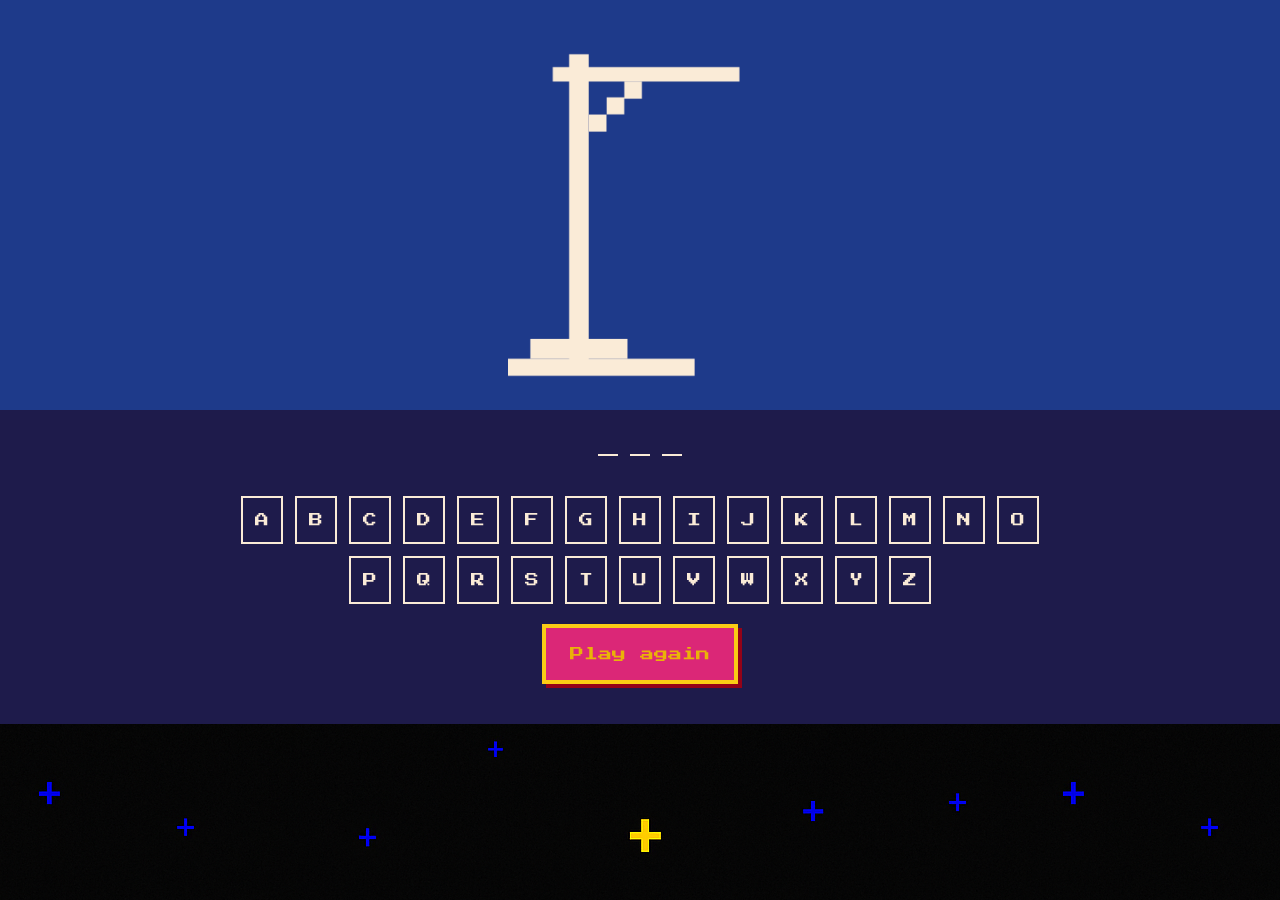
Test: Hangman › shows winning animation when all letters are found
Click the button "A".
click(262, 520)  # box x1=241 y1=496 x2=283 y2=544
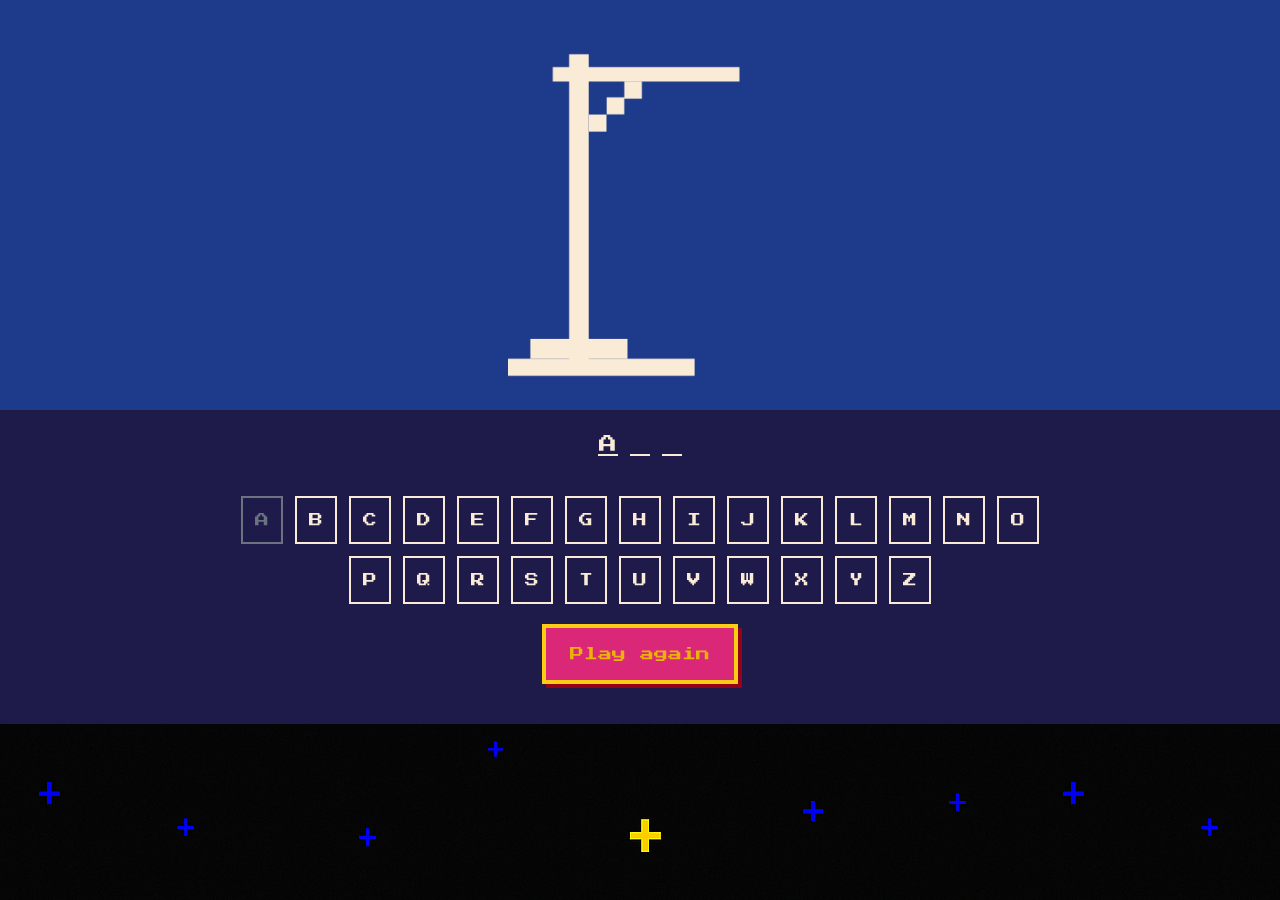
Click the button "B".
click(316, 520)  # box x1=295 y1=496 x2=337 y2=544
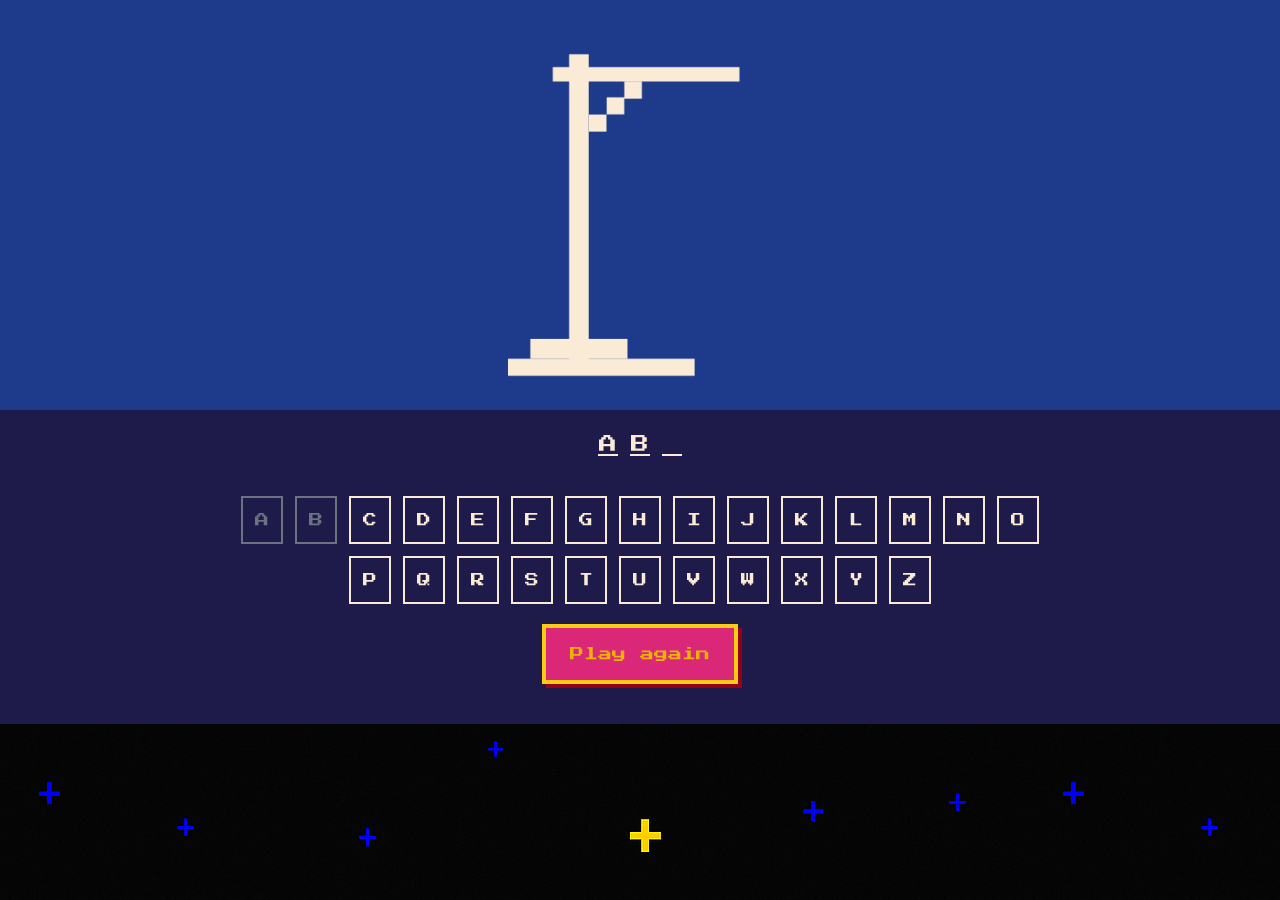
Click the button "C".
click(370, 520)  # box x1=349 y1=496 x2=391 y2=544
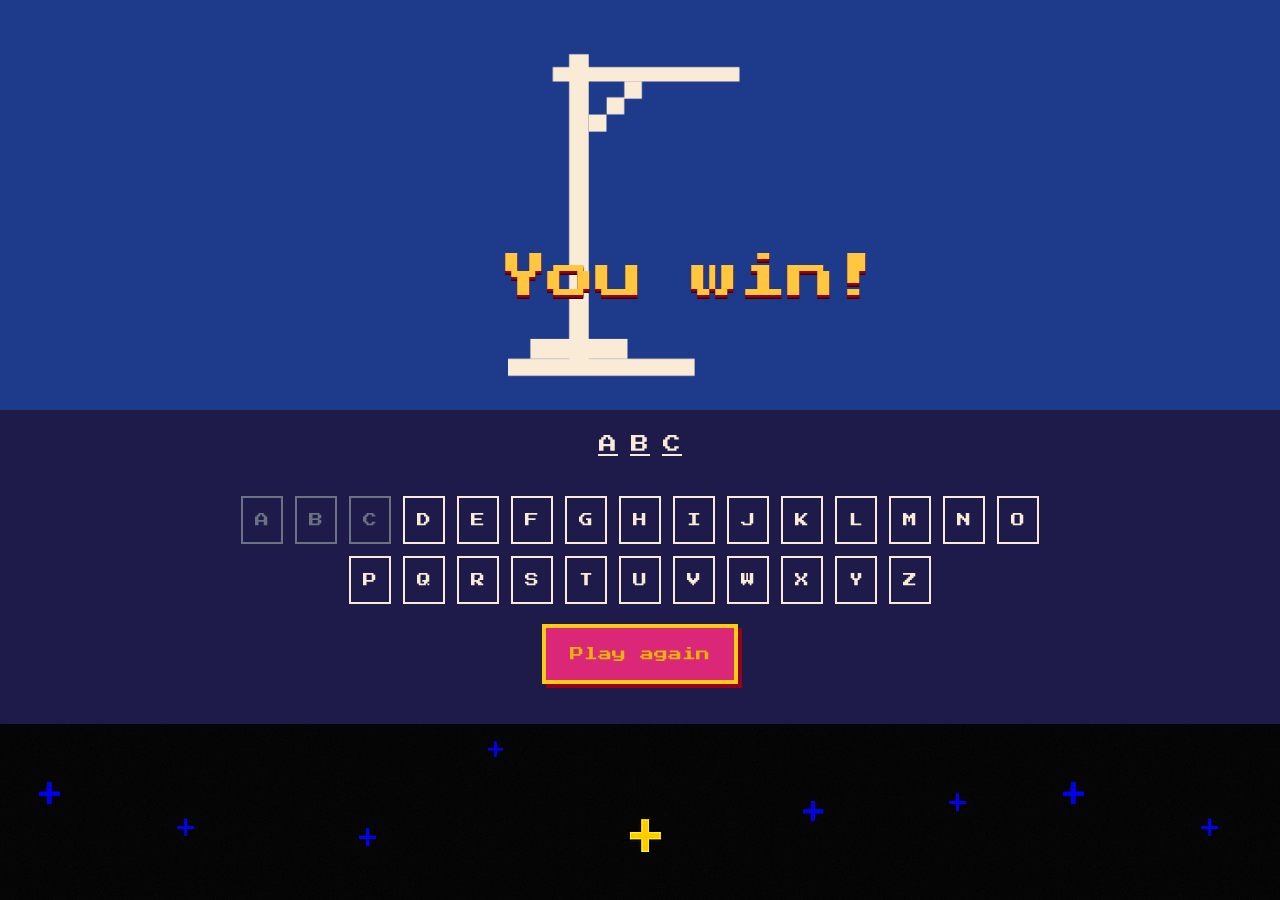
Now the text "You win!" is shown, box x1=499 y1=253 x2=883 y2=301
